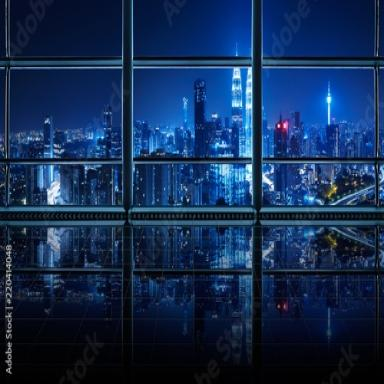glass_panel: (0, 271, 123, 384), (132, 273, 253, 383), (262, 272, 375, 379), (133, 67, 252, 158), (262, 68, 374, 158), (10, 70, 122, 159), (133, 0, 252, 57), (10, 0, 122, 57), (134, 158, 252, 209), (133, 225, 252, 271), (262, 162, 384, 206), (8, 225, 122, 271), (262, 226, 375, 271), (9, 163, 122, 206), (0, 68, 5, 157), (0, 163, 8, 206), (0, 3, 5, 57)
